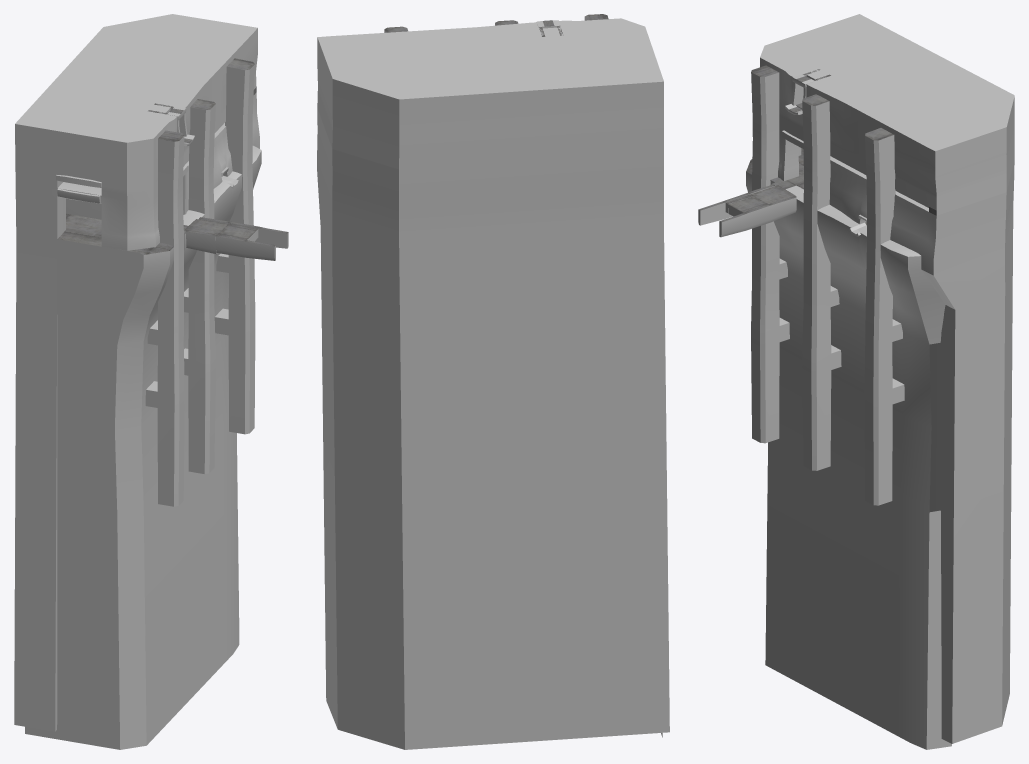
The picture shows the model from 3 angles, left to right: view 1: azimuth 30°, elevation 25°; view 2: azimuth 150°, elevation 25°; view 3: azimuth 270°, elevation 25°; orthographic projection. The views are drawn at different scales.
Visible parts, largest first — view 1: Cube.056; view 2: Cube.056; view 3: Cube.056.
Part boxes in pixels (bbox=[...]): Cube.056: bbox=[14, 14, 288, 749]; Cube.056: bbox=[317, 14, 669, 749]; Cube.056: bbox=[698, 14, 1014, 749].
Bounding box in the file's own units: 2159 × 4408 × 2073.
